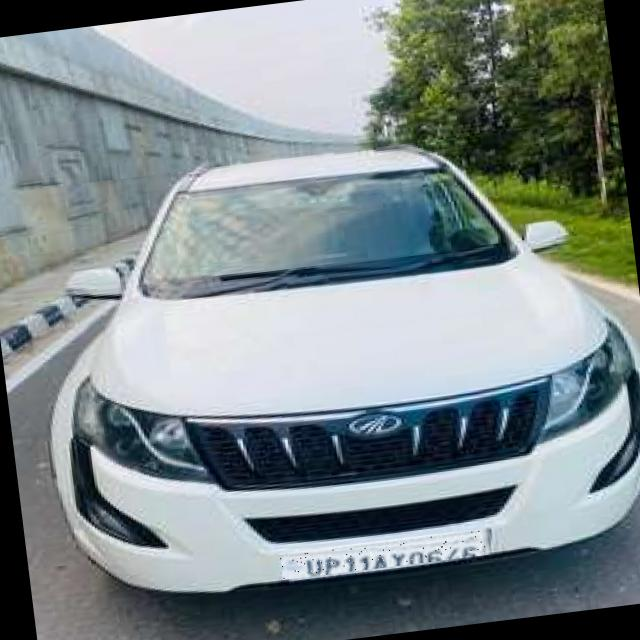Plate: (281, 529, 493, 581)
